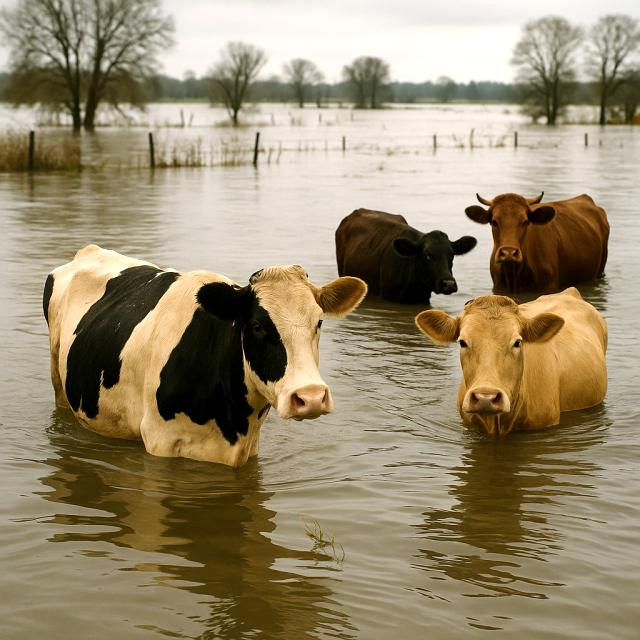cow: (23, 237, 371, 472), (417, 279, 621, 450), (457, 186, 622, 298), (320, 198, 476, 316)
